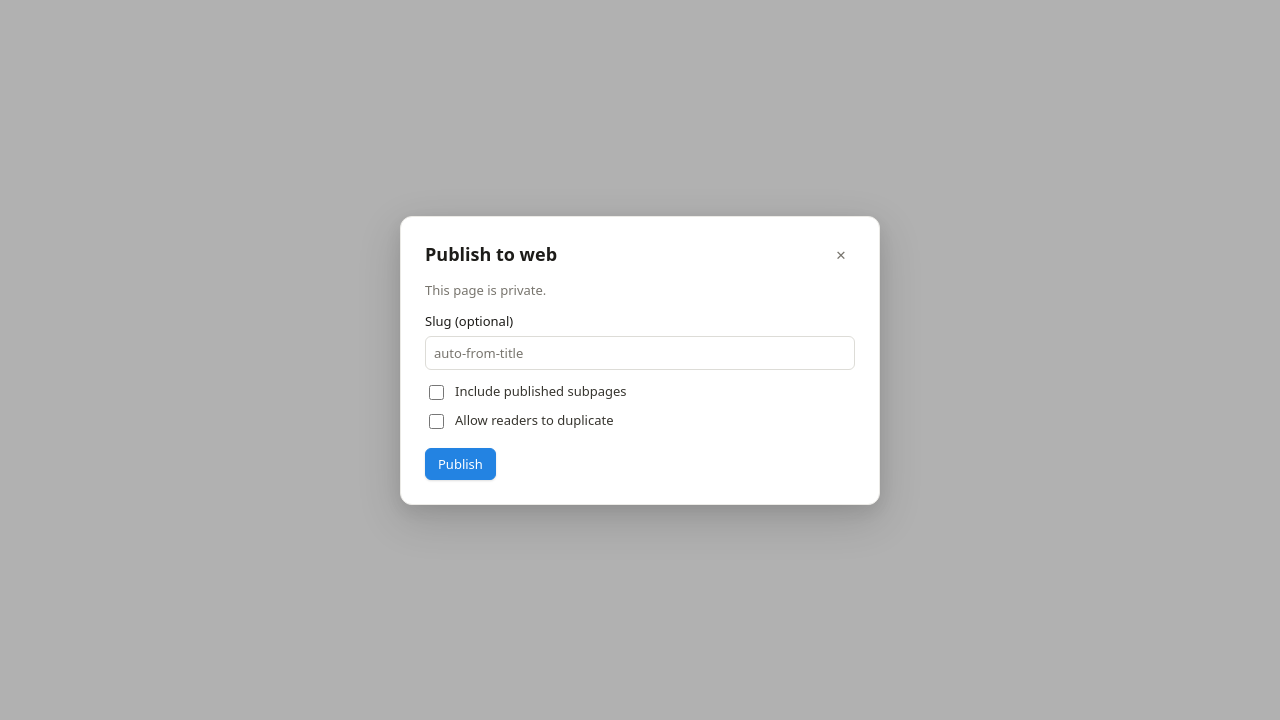
PublishDialog › shows the unpublished state and publishes (serializes HTML + POSTs)
Expected: the text with test id "publish-state" reads "This page is private.", [425,280,546,298]
Click the checkbox named "Include subpages". click: point(436, 392)
box: [429,384,444,400]
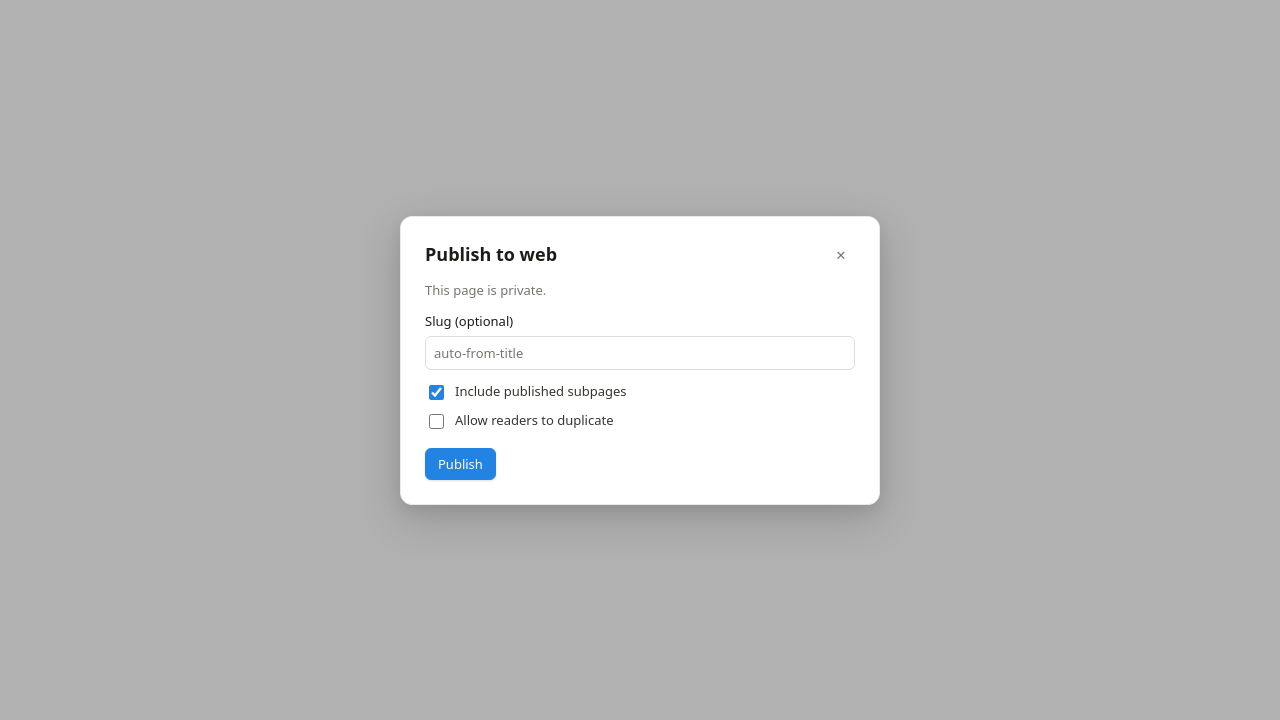
Click the button with test id "publish-button". click: point(460, 464)
box: [425,448,496,480]
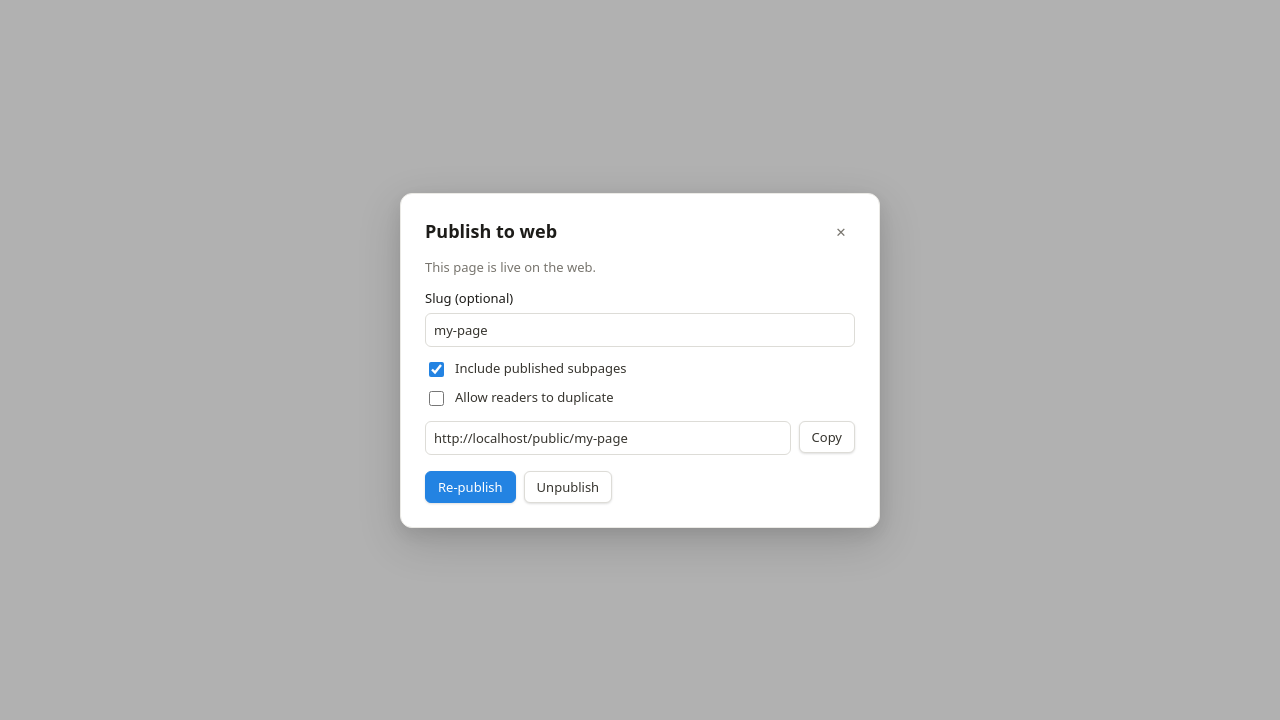
Now the element with test id "public-url" is shown, box [425,420,855,454]
